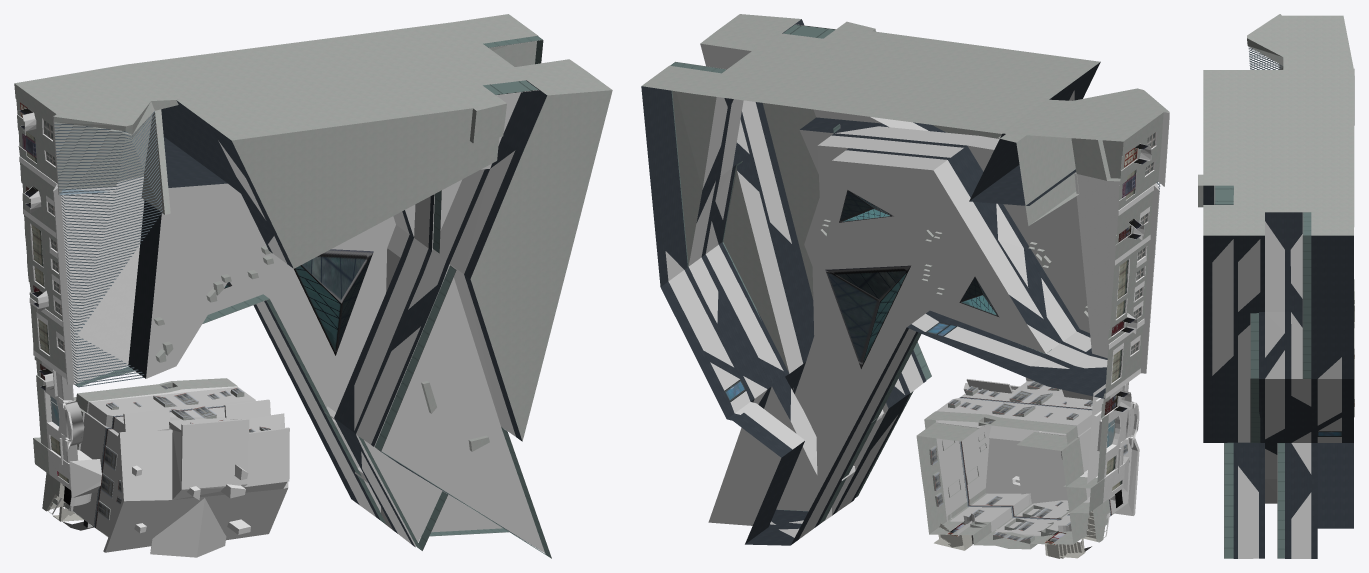
Rendered from Vana-viru_13-origo.obj.
3 renders of one model, left to right at view 1: azimuth 30°, elevation 25°; view 2: azimuth 150°, elevation 25°; view 3: azimuth 270°, elevation 25°, orthographic. The views are drawn at different scales.
Parts seen in each view (by area): view 1: Vana_Viru_tn_13; view 2: Vana_Viru_tn_13; view 3: Vana_Viru_tn_13.
Part boxes in pixels (x1,y1,x2,y2): Vana_Viru_tn_13: (14, 14, 612, 558); Vana_Viru_tn_13: (641, 14, 1169, 558); Vana_Viru_tn_13: (1198, 14, 1354, 558).
Bounding box in the file's own units: 50.38 × 49.5 × 18.44.
